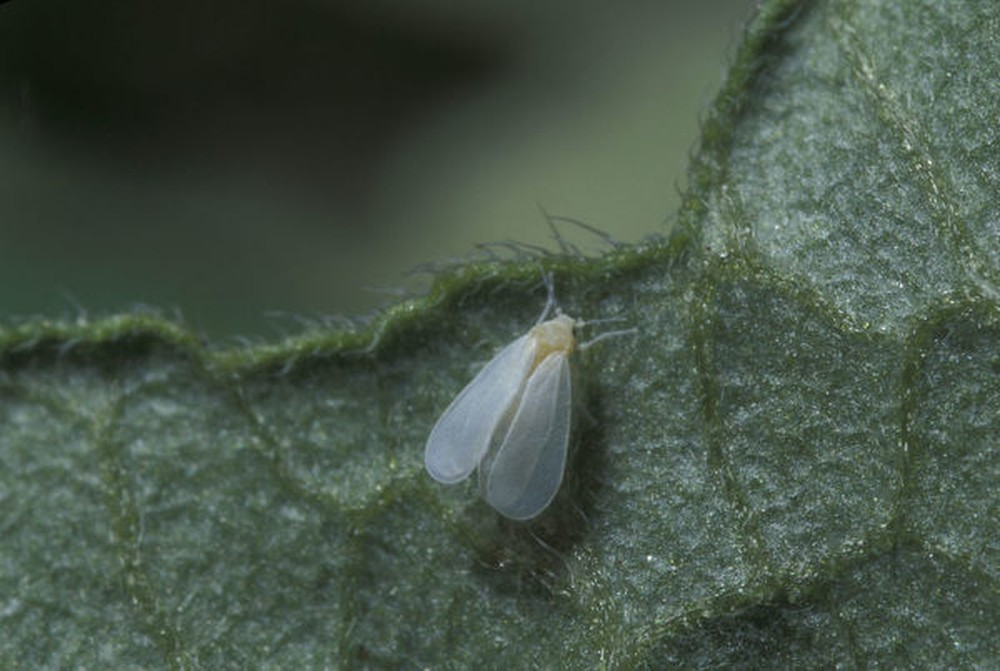Mosca Blanca: (397, 281, 633, 546)
